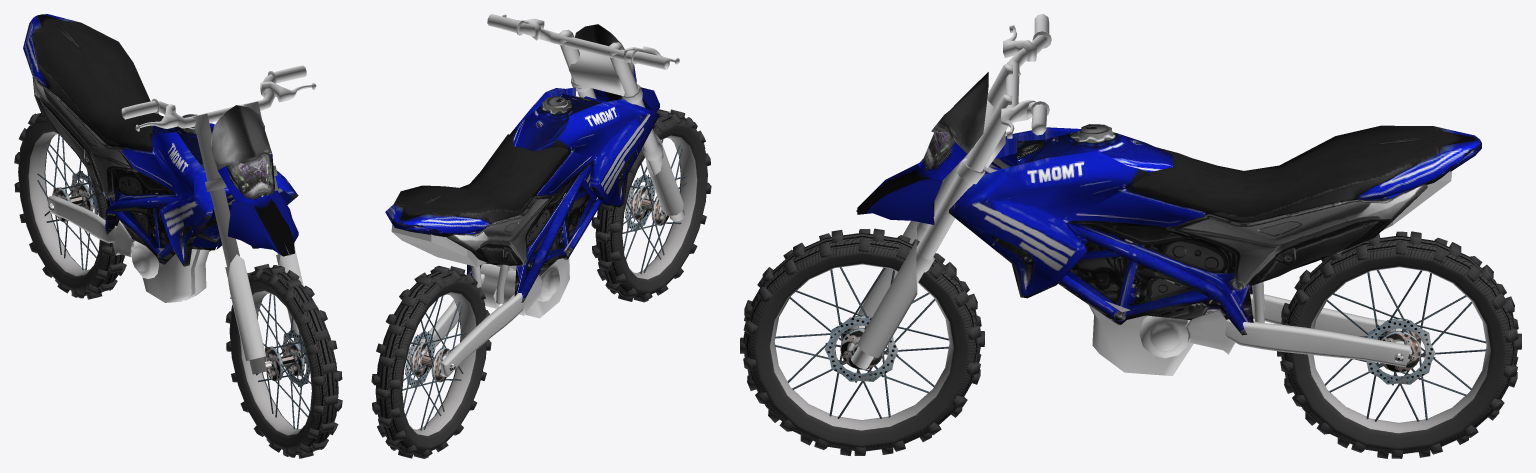
Rendered from 3rd bike.FBX.
3 renders of one model, left to right at view 1: azimuth 30°, elevation 25°; view 2: azimuth 150°, elevation 25°; view 3: azimuth 270°, elevation 25°, orthographic. The views are drawn at different scales.
Parts seen in each view (by area): view 1: Plane001, Tyre, Tyre1, Plane002, polySurface512, polySurface513; view 2: Plane001, Tyre1, Tyre, Plane002, polySurface513, polySurface512, polySurface514; view 3: Plane001, Tyre, Tyre1, Plane002, polySurface513, polySurface512.
Part boxes in pixels (x1=…): Plane001: x1=23, y1=14, x2=298, y2=266; Tyre: x1=225, y1=264, x2=342, y2=458; Tyre1: x1=14, y1=113, x2=126, y2=299; Plane002: x1=113, y1=65, x2=316, y2=374; polySurface512: x1=228, y1=247, x2=303, y2=360; polySurface513: x1=48, y1=188, x2=116, y2=243; Plane001: x1=385, y1=24, x2=659, y2=302; Tyre1: x1=371, y1=266, x2=491, y2=458; Tyre: x1=591, y1=109, x2=711, y2=302; Plane002: x1=391, y1=14, x2=684, y2=318; polySurface513: x1=409, y1=273, x2=526, y2=377; polySurface512: x1=629, y1=134, x2=683, y2=215; polySurface514: x1=471, y1=264, x2=508, y2=303; Plane001: x1=856, y1=72, x2=1481, y2=335; Tyre: x1=740, y1=228, x2=984, y2=455; Tyre1: x1=1277, y1=231, x2=1521, y2=458; Plane002: x1=851, y1=14, x2=1451, y2=375; polySurface513: x1=1225, y1=294, x2=1410, y2=367; polySurface512: x1=857, y1=220, x2=917, y2=357.
Size of the model in its own units: 126 by 210 by 384.
